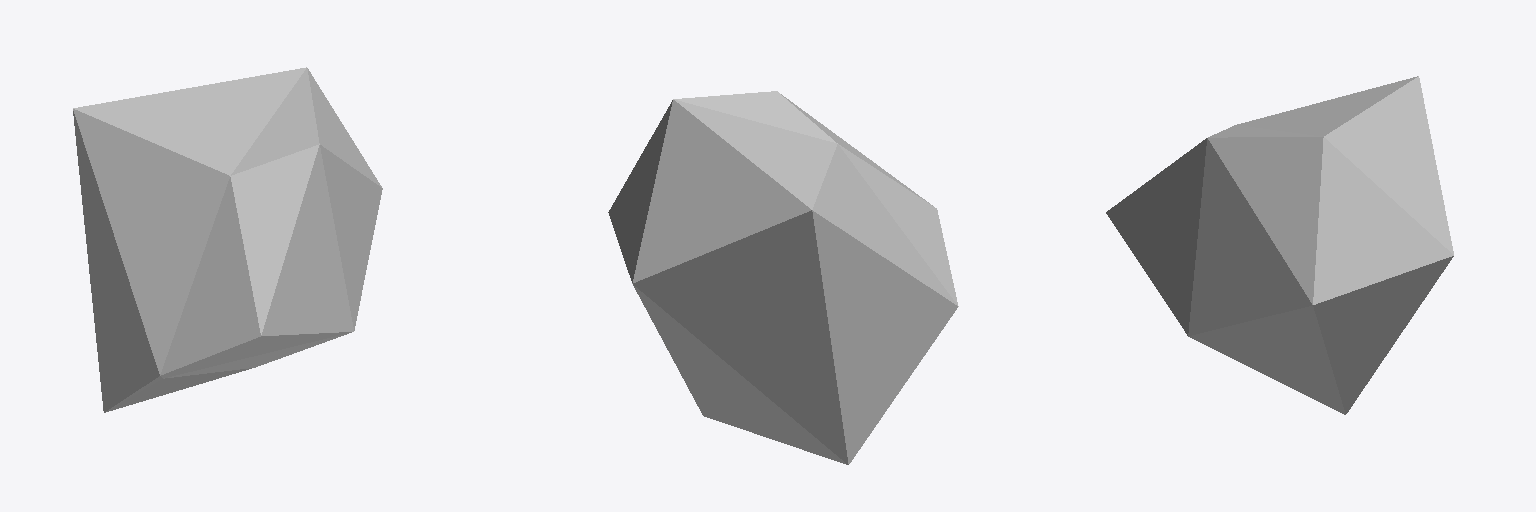
3 views of the same model, side by side, from view 1: azimuth 30°, elevation 25°; view 2: azimuth 150°, elevation 25°; view 3: azimuth 270°, elevation 25° (orthographic).
Parts seen in each view (by area): view 1: pasted__pasted__pSolid9 group25 group24; view 2: pasted__pasted__pSolid9 group25 group24; view 3: pasted__pasted__pSolid9 group25 group24.
Boxes of the visible parts, <box> form: pasted__pasted__pSolid9 group25 group24: <box>73,67,382,412</box>; pasted__pasted__pSolid9 group25 group24: <box>608,91,958,464</box>; pasted__pasted__pSolid9 group25 group24: <box>1106,76,1453,414</box>.
Bounding box in the file's own units: 0.5713 × 0.5902 × 0.6019.